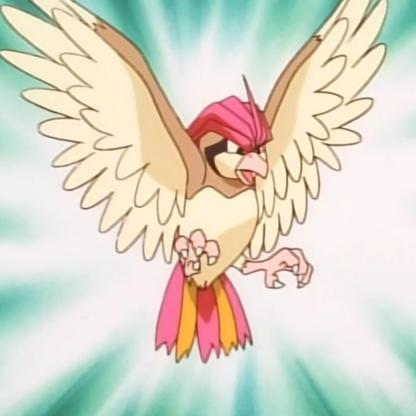Pidgeotto: (1, 1, 416, 358)
